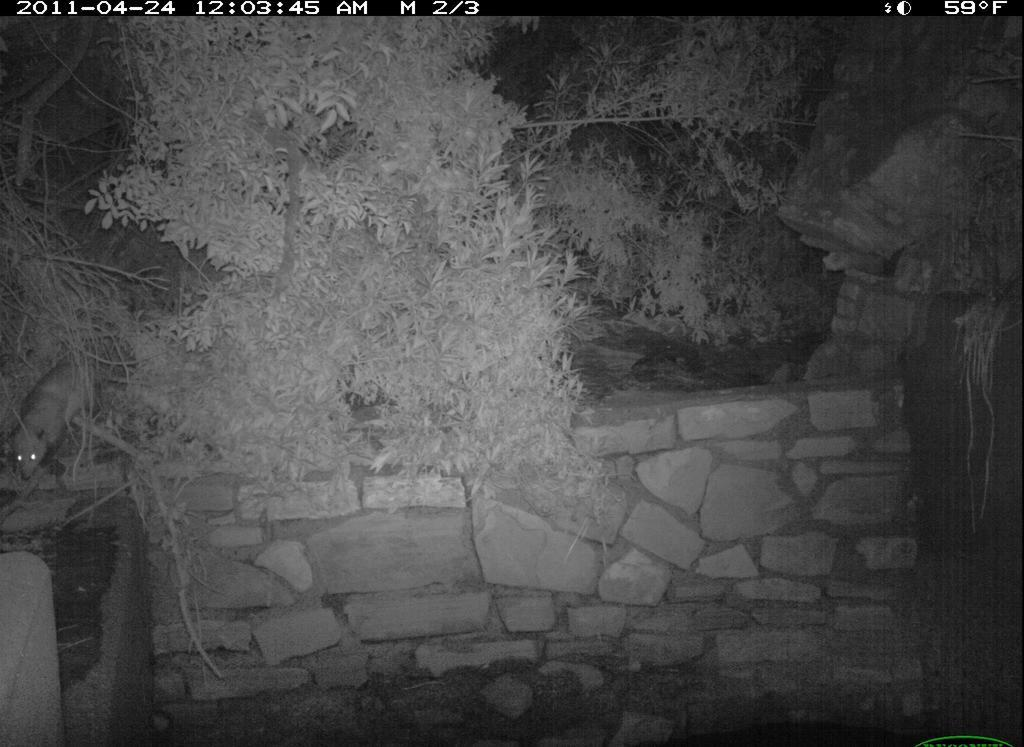opossum: (1, 347, 113, 491)
